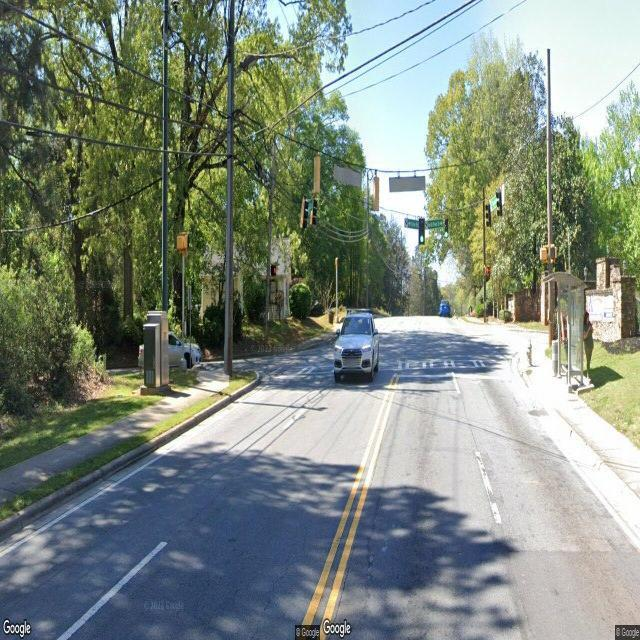seating: (562, 363, 580, 383)
shelter: (542, 272, 588, 394)
trash_can: (550, 339, 560, 377)
